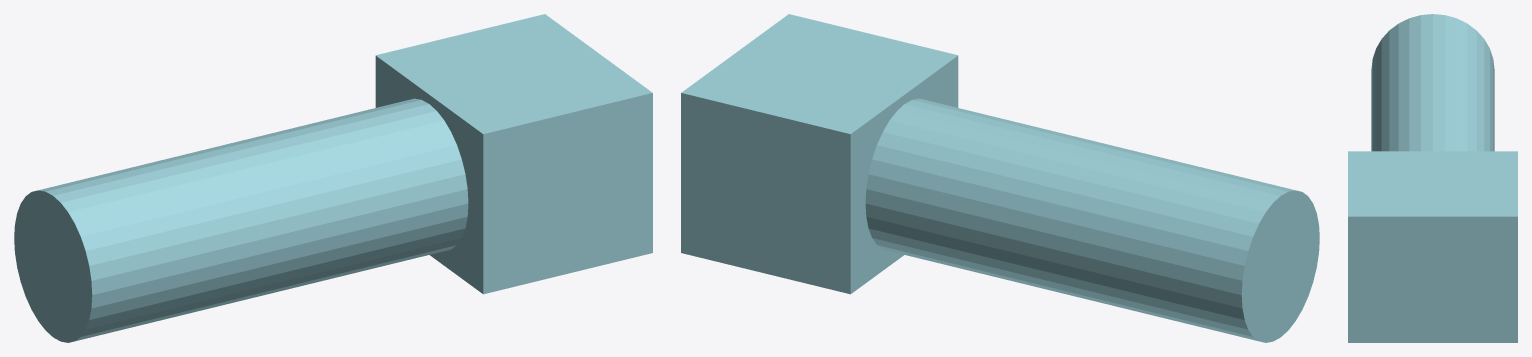
File: cylinder_brush_v9009.obj
3 views of the same model, side by side, from view 1: azimuth 30°, elevation 25°; view 2: azimuth 150°, elevation 25°; view 3: azimuth 270°, elevation 25° (orthographic). The views are drawn at different scales.
Size of the model in its own units: 0.1638 by 0.0459 by 0.056.
Materials: 1 (1 with a texture image).
